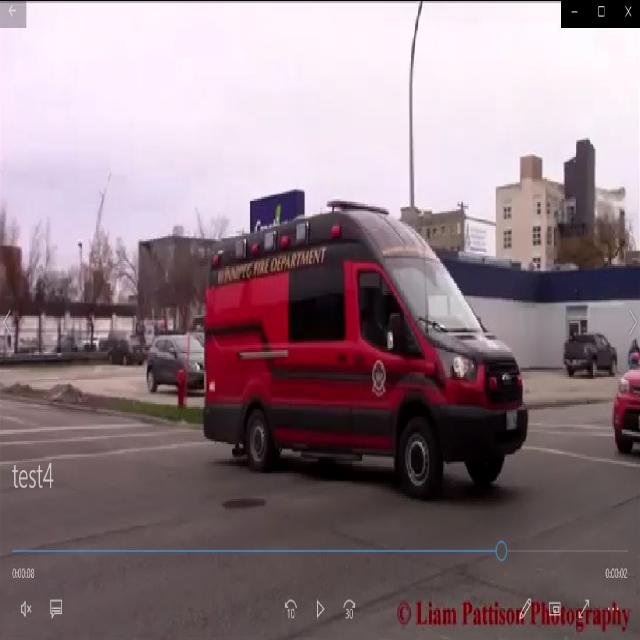emergency: (203, 197, 527, 488)
